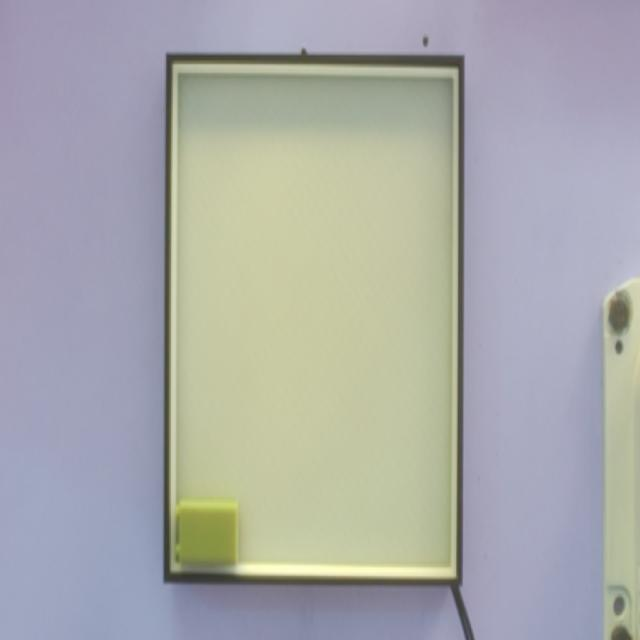bateria: (175, 501, 237, 568)
mesa: (164, 55, 464, 586)
